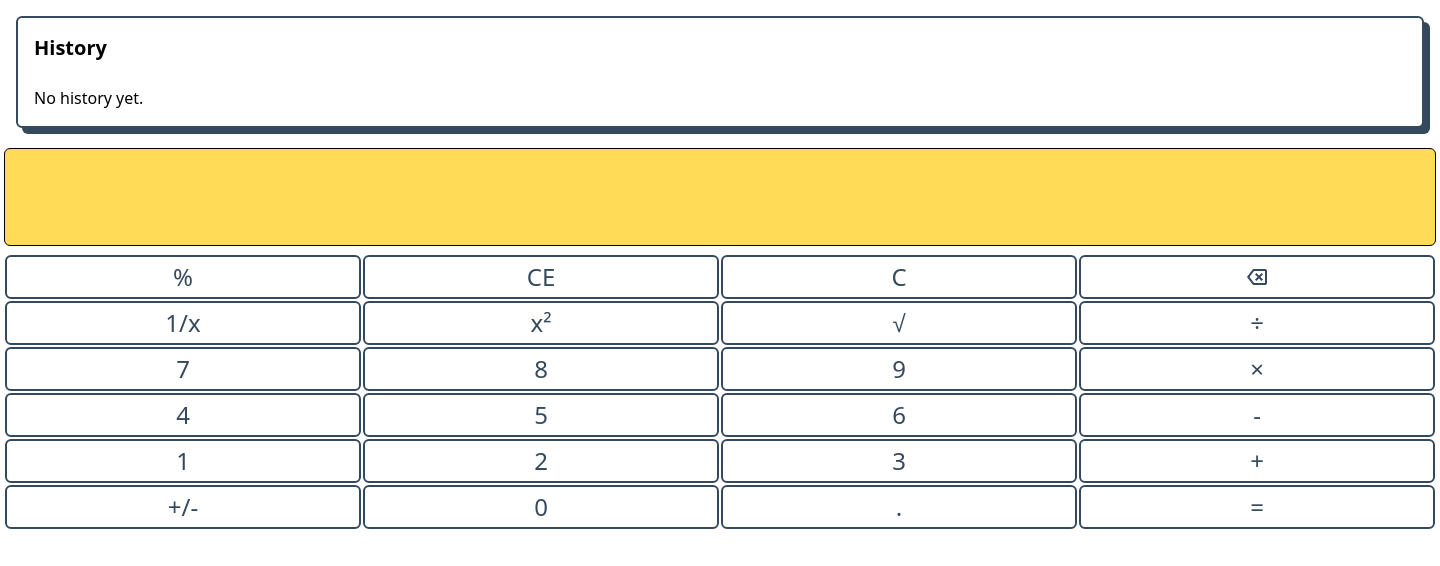
Test: Component: CalculatorContainer › can replace entry with 0 if `!entry.length > 1
Click the 3rd button with class "correction-button": (1257,277) [1079,255,1435,299]
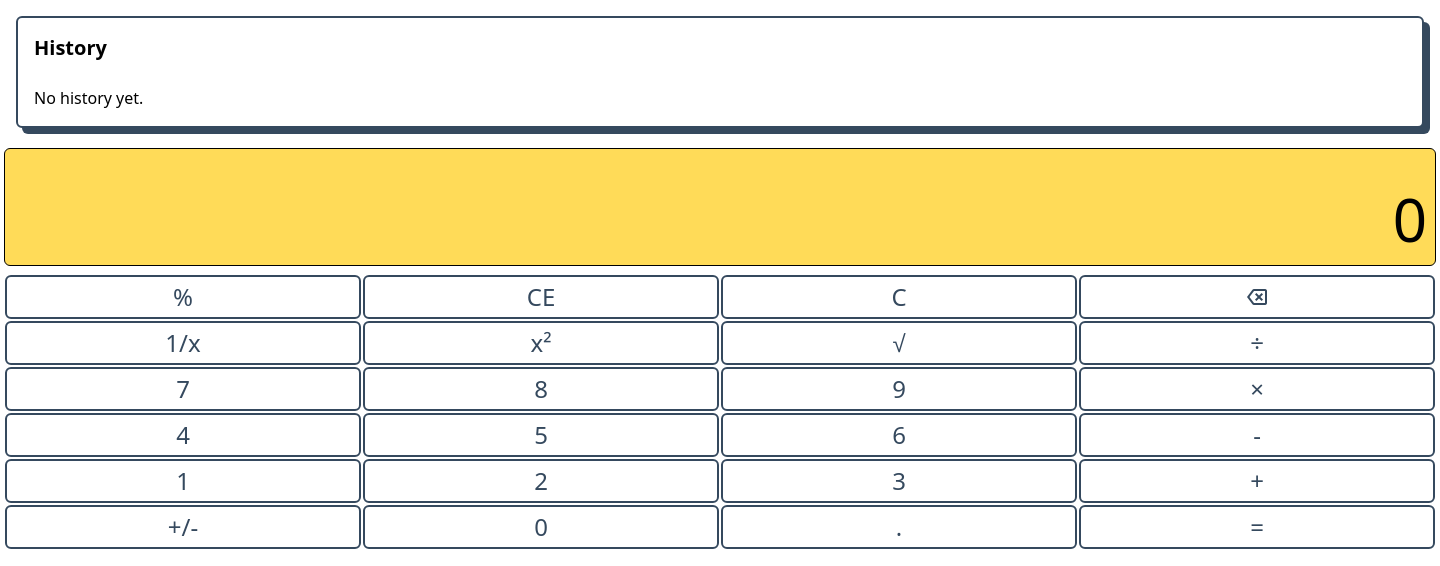
Expected: the text with class "entry-screen" reads "0", [1393,178,1427,260]
